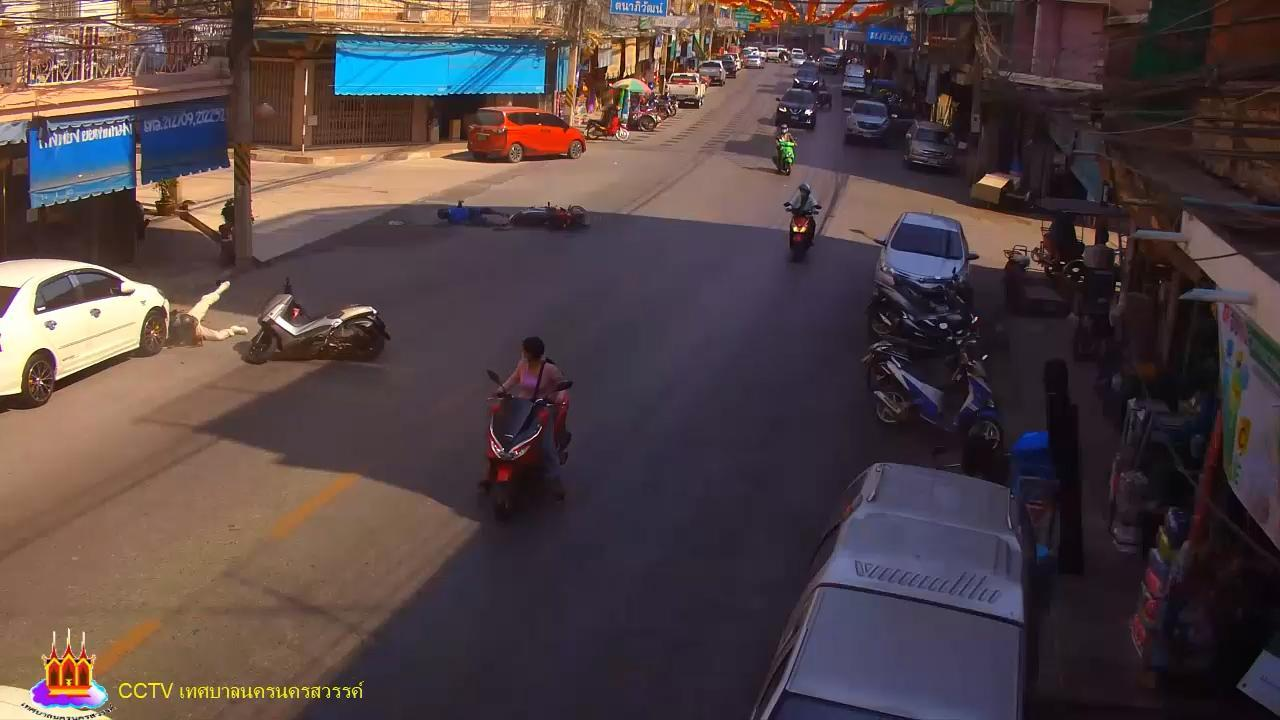accident: (164, 276, 250, 344), (433, 198, 515, 230)
